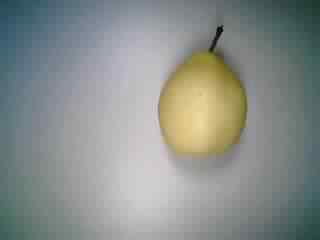pear: (137, 17, 259, 163)
